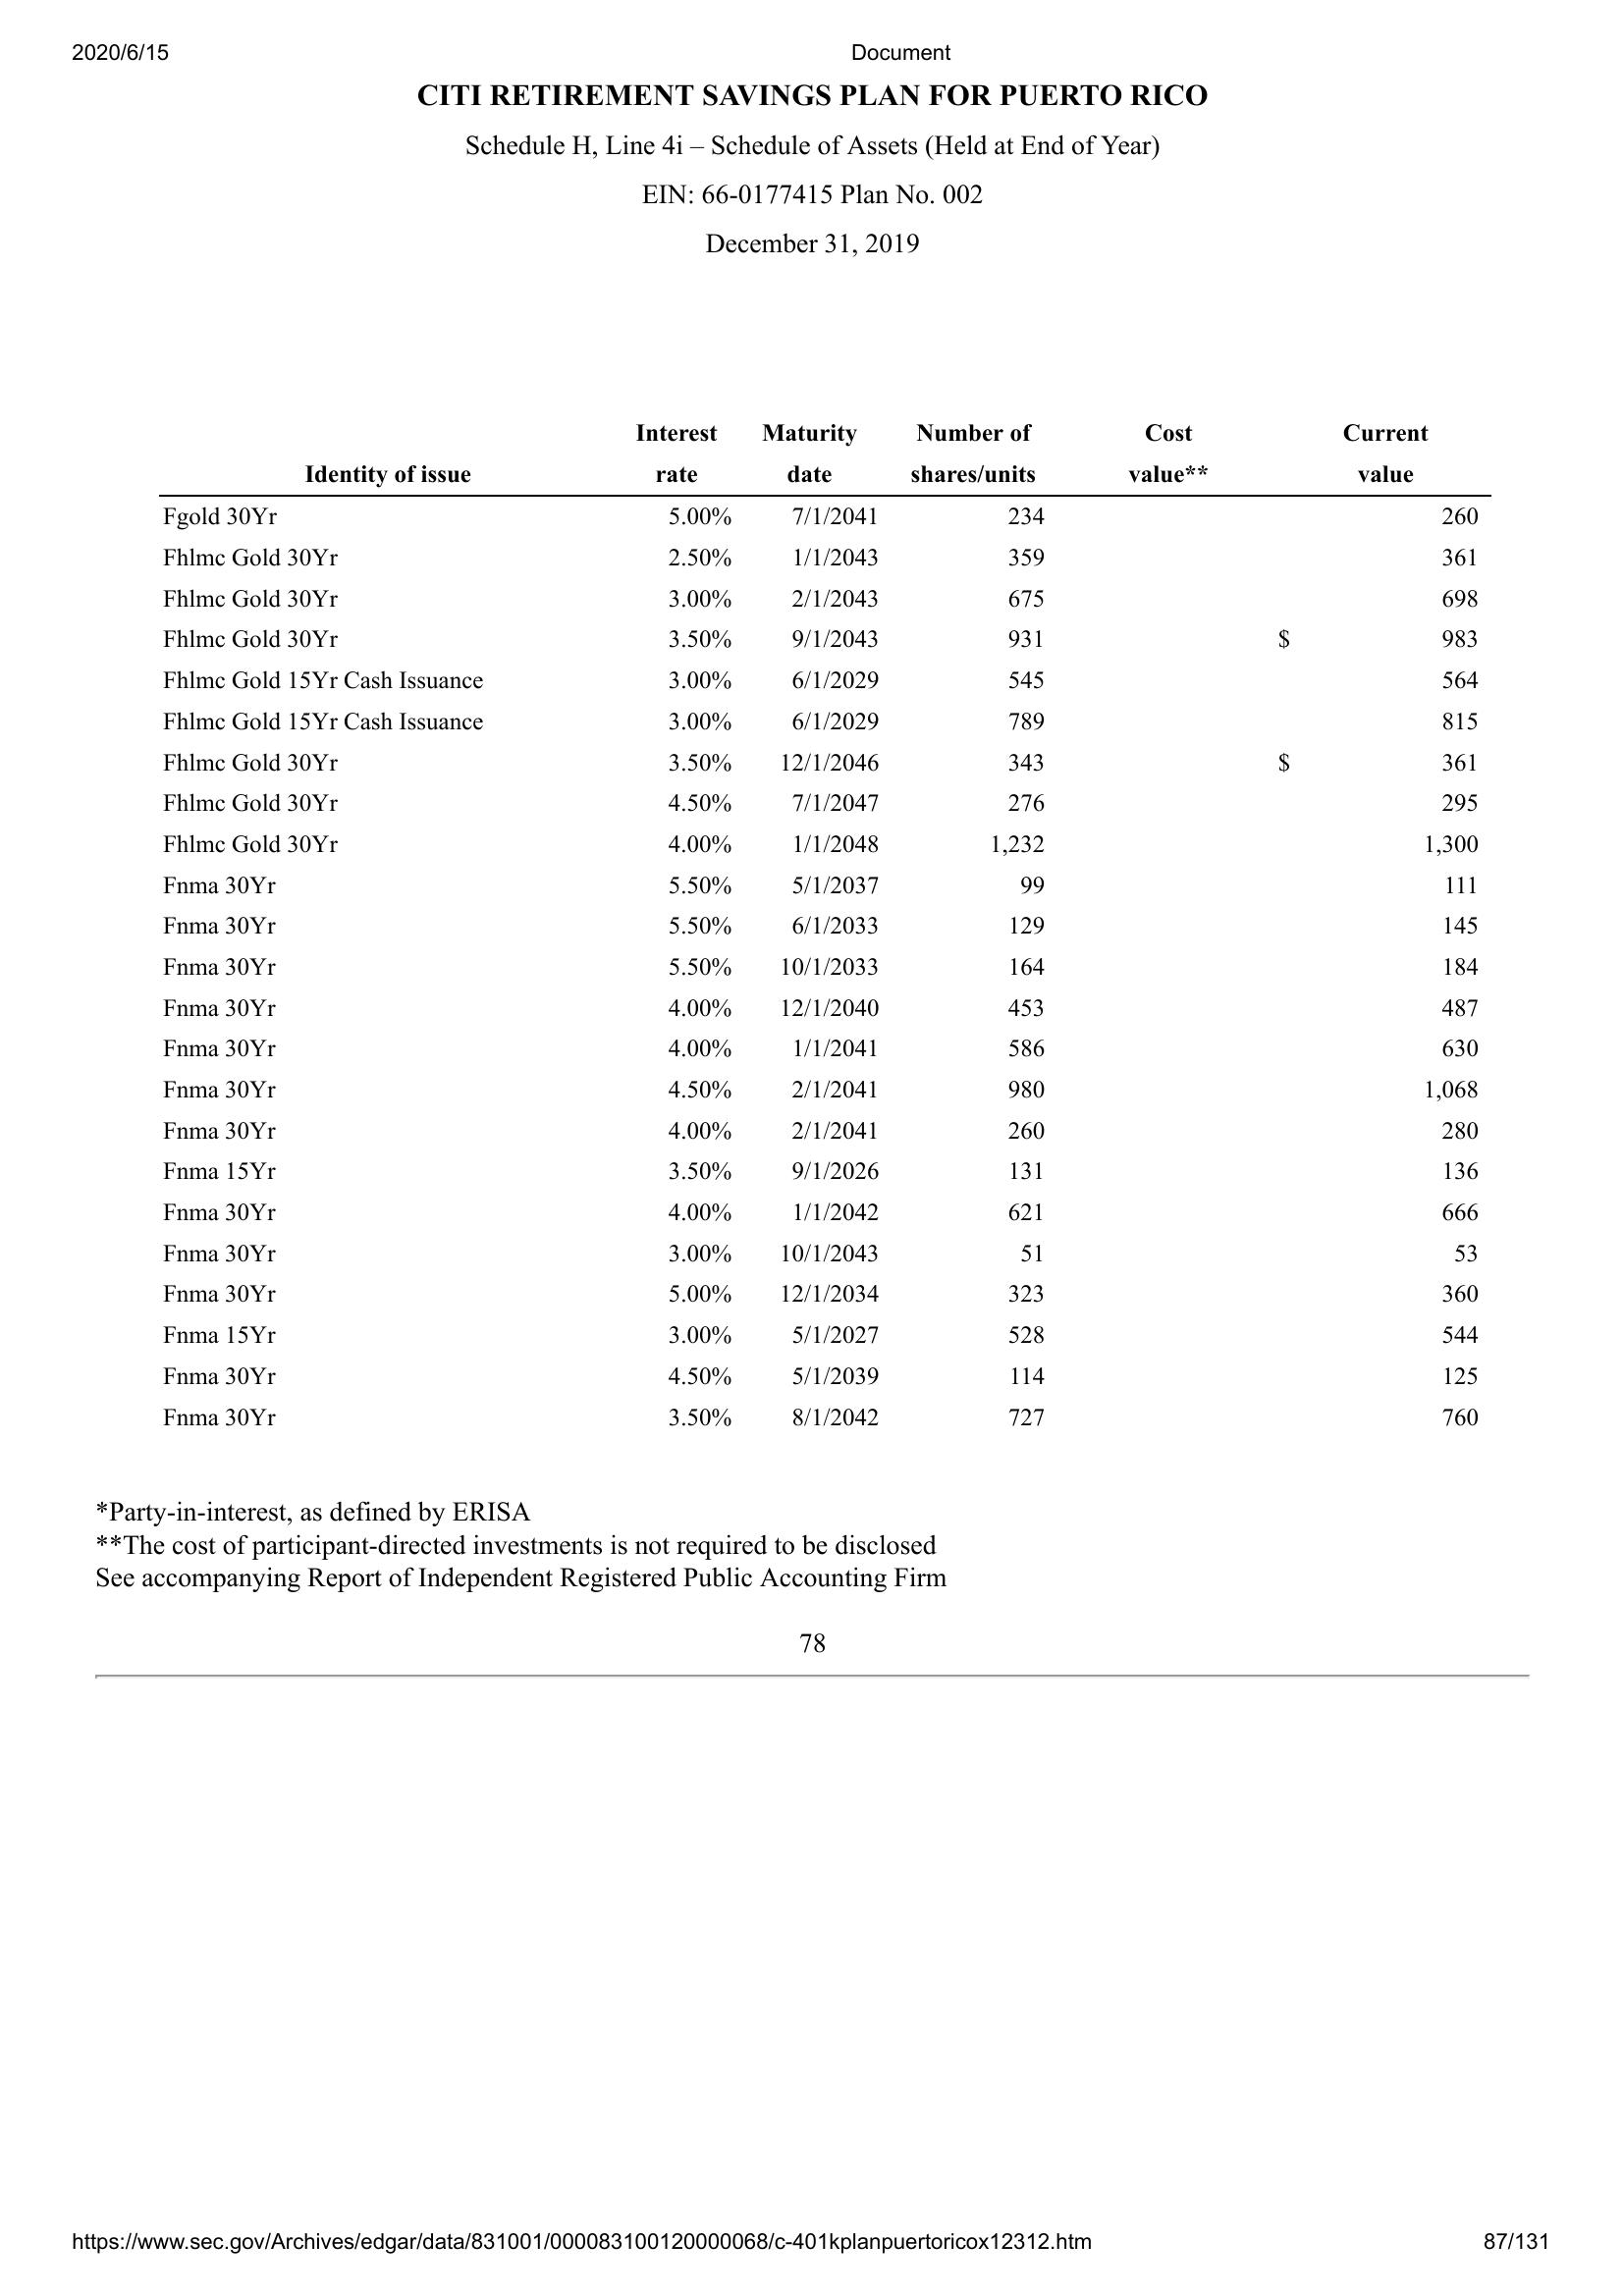table: (148, 421, 1486, 1441)
